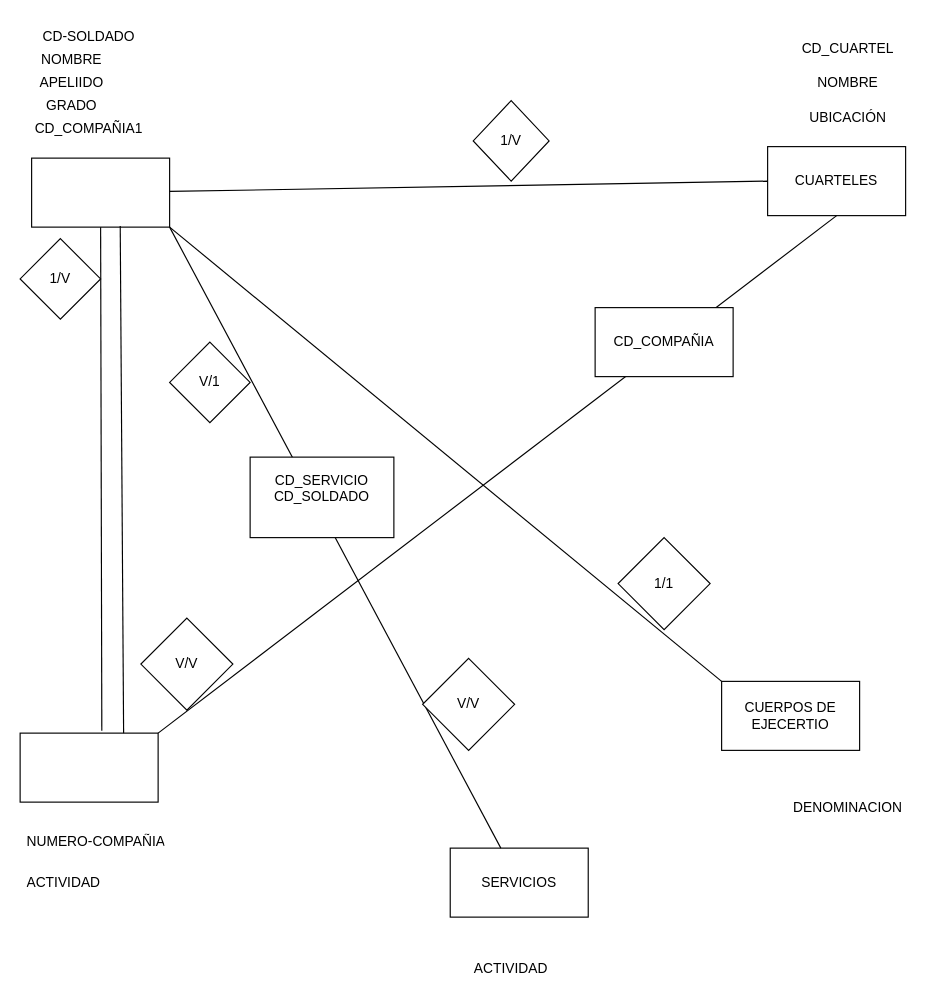
Image size: 926x1005. Some labels were removed from this diagram. Here are the shapes that lost their labels. From the top down, the box of each, then its label:
(30, 157, 170, 227): SOLDADO
(19, 732, 158, 802): COMPAÑIAS
